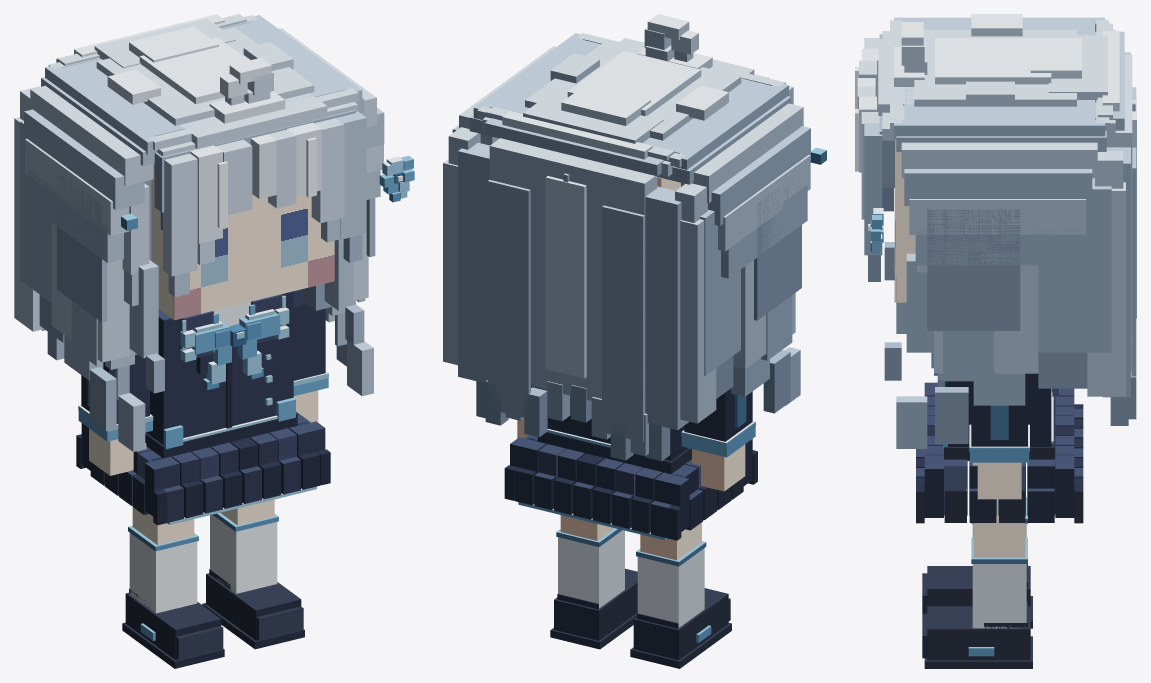
File: hinata_ai.glb
The picture shows the model from 3 angles, left to right: view 1: azimuth 30°, elevation 25°; view 2: azimuth 150°, elevation 25°; view 3: azimuth 270°, elevation 25°; orthographic projection. The views are drawn at different scales.
Visible parts, largest first — view 1: Skirt, Face_Mesh, Torso_Mesh, Sock_R_Mesh, Sock_L_Mesh, Hair_Cap_Core, Hair_Bang_1, Hair_Side_Ridge_R, Hair_SideTop_B_R, Hair_SideTop_A_R, Hair_Crown_Mid, Hair_Side_Mid_R (+57 smaller); view 2: Hair_Back_Panel, Skirt, Hair_Back_OverlayL, Hair_Back_OverlayR, Hair_Back_Side_R, Hair_Back_OverlayC, Hair_Back_Side_L, Hair_Back_Outer_R, Hair_Side_Back_R, Hair_Cap_Core, Sock_R_Mesh, Hair_Crown_Top (+47 smaller); view 3: Hair_Side_Ridge_L, Hair_Side_Back_L, Skirt, Hair_SideTop_C_L, Hair_SideTop_B_L, Hair_SideTop_A_L, Hair_SideTop_D_L, Hair_Crown_Top, Foot_L_Mesh, Hair_Back_Outer_L, Hair_Cap_Core, Hair_Crown_Mid (+47 smaller).
Boxes of the visible parts, box(x1,y1,x2,y2) form: Skirt: box(90, 411, 320, 522); Face_Mesh: box(173, 194, 334, 320); Torso_Mesh: box(146, 291, 293, 444); Sock_R_Mesh: box(129, 533, 197, 613); Sock_L_Mesh: box(210, 515, 277, 593); Hair_Cap_Core: box(62, 21, 346, 136); Hair_Bang_1: box(163, 153, 197, 276); Hair_Side_Ridge_R: box(57, 172, 107, 322); Hair_SideTop_B_R: box(24, 109, 144, 209); Hair_SideTop_A_R: box(30, 85, 153, 185); Hair_Crown_Mid: box(96, 27, 314, 125); Hair_Side_Mid_R: box(51, 222, 129, 362); Hair_Back_Panel: box(489, 138, 657, 413); Skirt: box(515, 435, 743, 538); Hair_Back_OverlayL: box(602, 205, 645, 442); Hair_Back_OverlayR: box(487, 179, 530, 418); Hair_Back_Side_R: box(645, 186, 688, 430); Hair_Back_OverlayC: box(545, 176, 586, 378); Hair_Back_Side_L: box(458, 142, 489, 383); Hair_Back_Outer_R: box(680, 219, 716, 423); Hair_Side_Back_R: box(700, 209, 740, 375); Hair_Cap_Core: box(488, 39, 773, 153); Sock_R_Mesh: box(637, 548, 704, 627); Hair_Crown_Top: box(567, 50, 701, 115); Hair_Side_Ridge_L: box(927, 209, 1020, 330); Hair_Side_Back_L: box(1038, 178, 1111, 352); Skirt: box(916, 389, 1083, 522); Hair_SideTop_C_L: box(909, 199, 1085, 234); Hair_SideTop_B_L: box(904, 169, 1092, 205); Hair_SideTop_A_L: box(901, 142, 1097, 178); Hair_SideTop_D_L: box(915, 228, 1079, 265); Hair_Crown_Top: box(935, 38, 1051, 84); Foot_L_Mesh: box(927, 606, 1030, 660); Hair_Back_Outer_L: box(1087, 182, 1125, 396); Hair_Cap_Core: box(904, 22, 1094, 120); Hair_Crown_Mid: box(914, 29, 1076, 106).
Bounding box in the file's own units: 0.8219 × 1.63 × 0.6825.
1 material, 1 textured.
